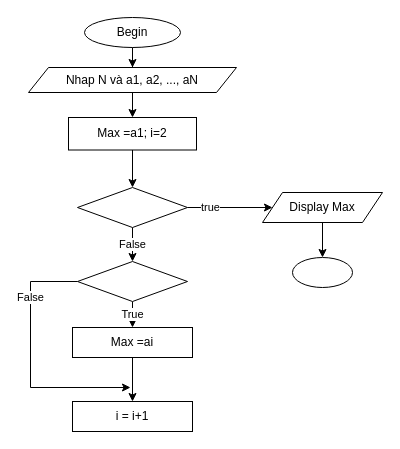
The diagram is 400 pixels wide and 449 high, and some of its shapes have lost their labels. Each missing label, with the centre of its shape:
ai>Max?: (x=132, y=281)
End: (x=322, y=272)
i>N: (x=132, y=207)
